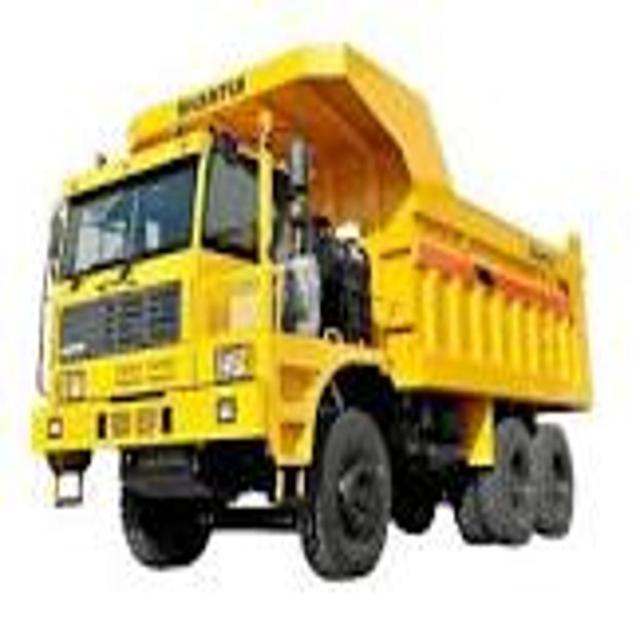dump_truck: (28, 32, 597, 587)
